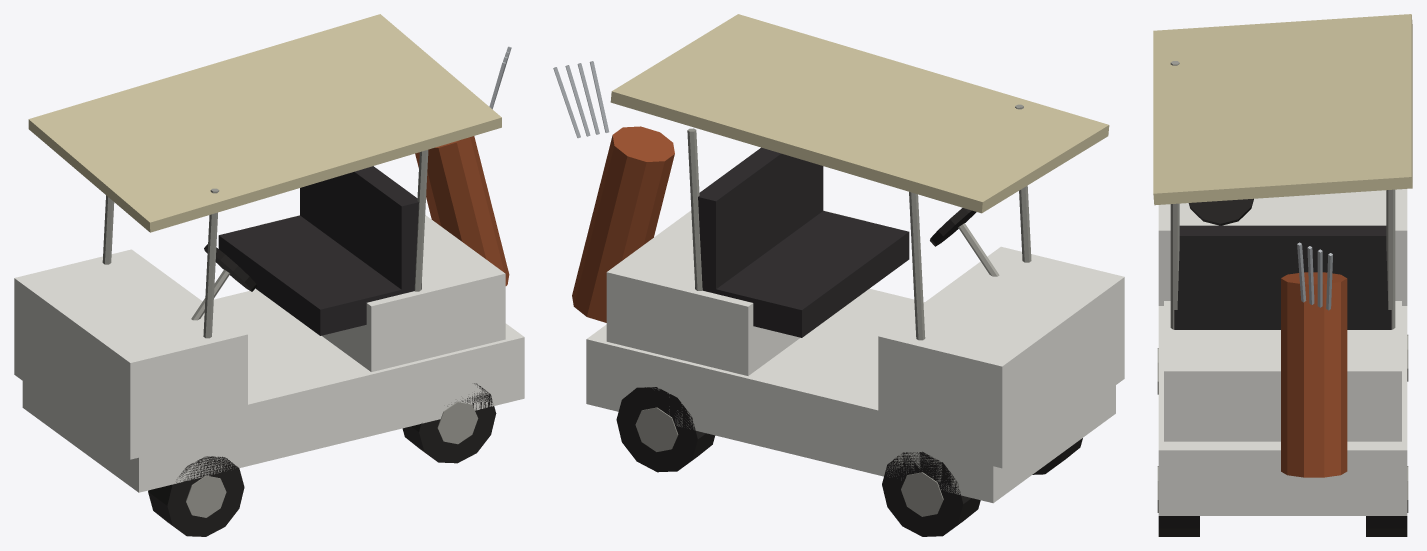
The model's file is golf_cart.glb.
3 views of the same model, side by side, from view 1: azimuth 30°, elevation 25°; view 2: azimuth 150°, elevation 25°; view 3: azimuth 270°, elevation 25° (orthographic). The views are drawn at different scales.
Visible parts, largest first — view 1: golf_cart; view 2: golf_cart; view 3: golf_cart.
Boxes of the visible parts, box(x1,y1,x2,y2) form: golf_cart: box(14, 14, 524, 536); golf_cart: box(553, 14, 1124, 536); golf_cart: box(1153, 14, 1412, 536).
Bounding box in the file's own units: 2.75 × 2.08 × 1.25.
